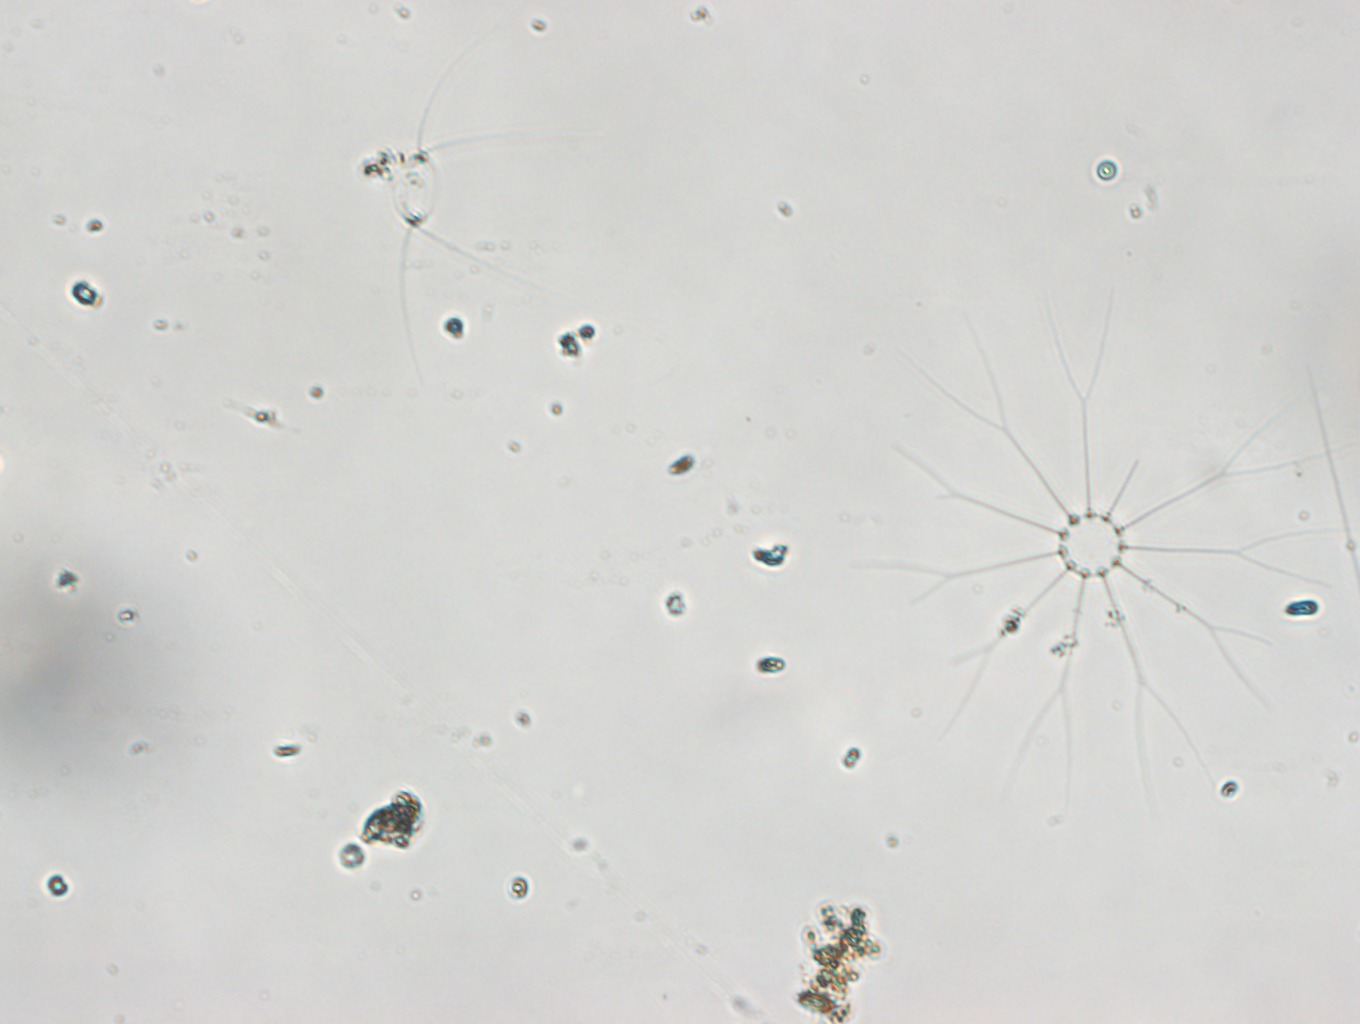bacteriastrum: (913, 326, 1318, 796)
